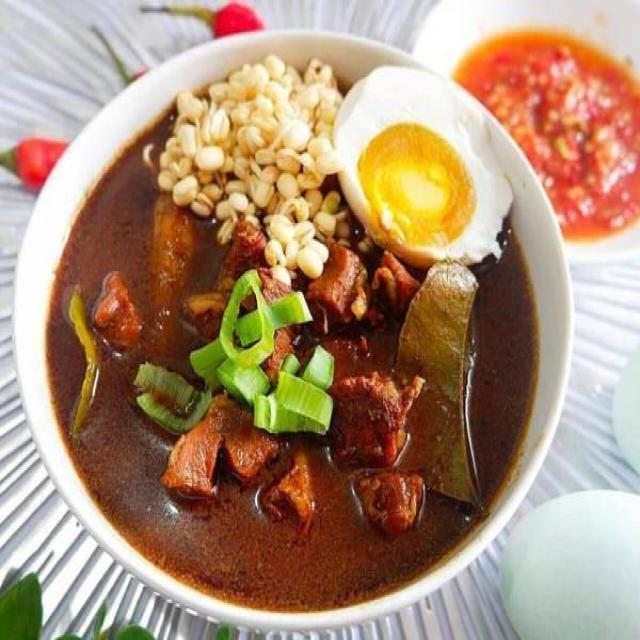Rawon: (35, 58, 535, 588)
